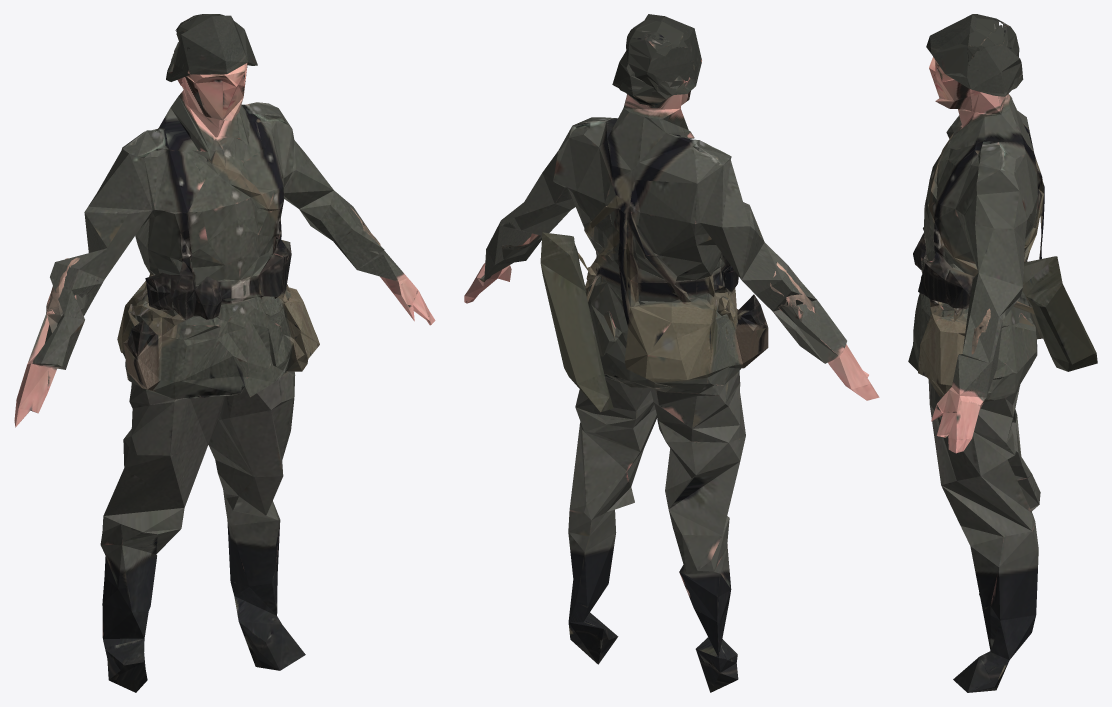
The model's file is soldado_aleman.obj.
3 renders of one model, left to right at view 1: azimuth 30°, elevation 25°; view 2: azimuth 150°, elevation 25°; view 3: azimuth 270°, elevation 25°, orthographic. The views are drawn at different scales.
Visible parts, largest first — view 1: soldado; view 2: soldado; view 3: soldado.
Boxes of the visible parts, left/top/right/bottom form: soldado: left=14, top=14, right=435, bottom=692; soldado: left=464, top=14, right=879, bottom=692; soldado: left=908, top=14, right=1097, bottom=692.
Bounding box in the file's own units: 1.17 × 1.78 × 0.4707.
1 material, 1 textured.
